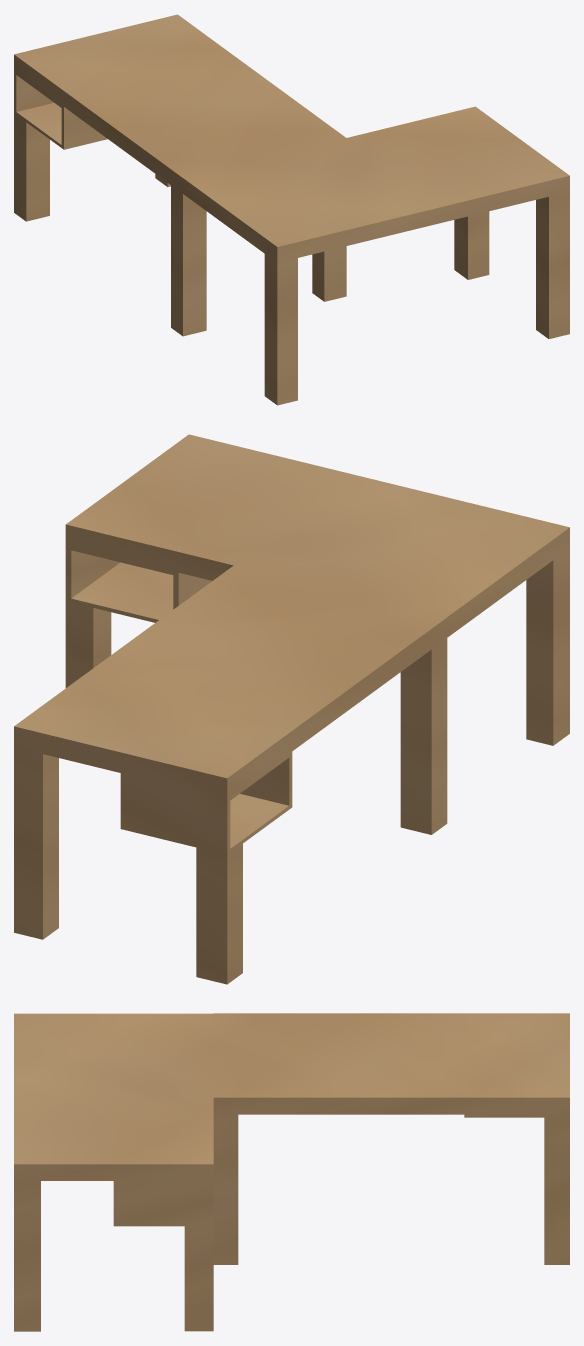
Rendered from MesaCamaras.fbx.
3 views of the same model, one above another, from view 1: azimuth 30°, elevation 25°; view 2: azimuth 150°, elevation 25°; view 3: azimuth 270°, elevation 25° (orthographic). The views are drawn at different scales.
Parts seen in each view (by area): view 1: Mesa.002; view 2: Mesa.002; view 3: Mesa.002.
Part boxes in pixels (left/top/right/bottom): Mesa.002: left=14, top=14, right=569, bottom=405; Mesa.002: left=14, top=434, right=569, bottom=984; Mesa.002: left=14, top=1013, right=569, bottom=1331.
Bounding box in the file's own units: 187 × 96.7 × 291.
